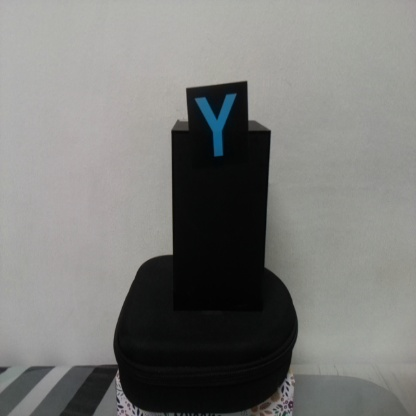id_14: (186, 87, 248, 167)
